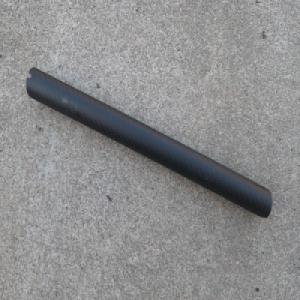LuggagePart: (25, 67, 272, 219)
